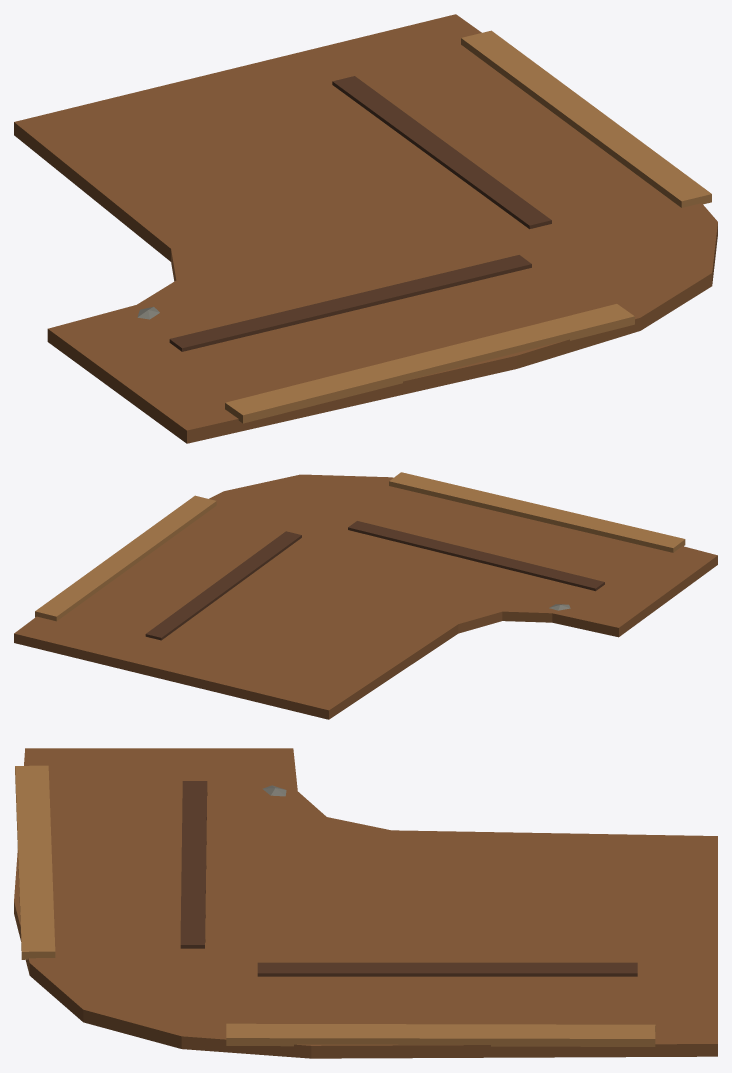
The picture shows the model from 3 angles, top to bottom: view 1: azimuth 30°, elevation 25°; view 2: azimuth 150°, elevation 25°; view 3: azimuth 270°, elevation 25°; orthographic projection. The views are drawn at different scales.
Visible parts, largest first — view 1: WK_TownHardscape_TH08_LOD0; view 2: WK_TownHardscape_TH08_LOD0; view 3: WK_TownHardscape_TH08_LOD0.
Part boxes in pixels (bbox=[...]): WK_TownHardscape_TH08_LOD0: bbox=[14, 14, 717, 443]; WK_TownHardscape_TH08_LOD0: bbox=[14, 472, 717, 719]; WK_TownHardscape_TH08_LOD0: bbox=[14, 748, 717, 1058].
Bounding box in the file's own units: 4 × 0.12 × 4.
